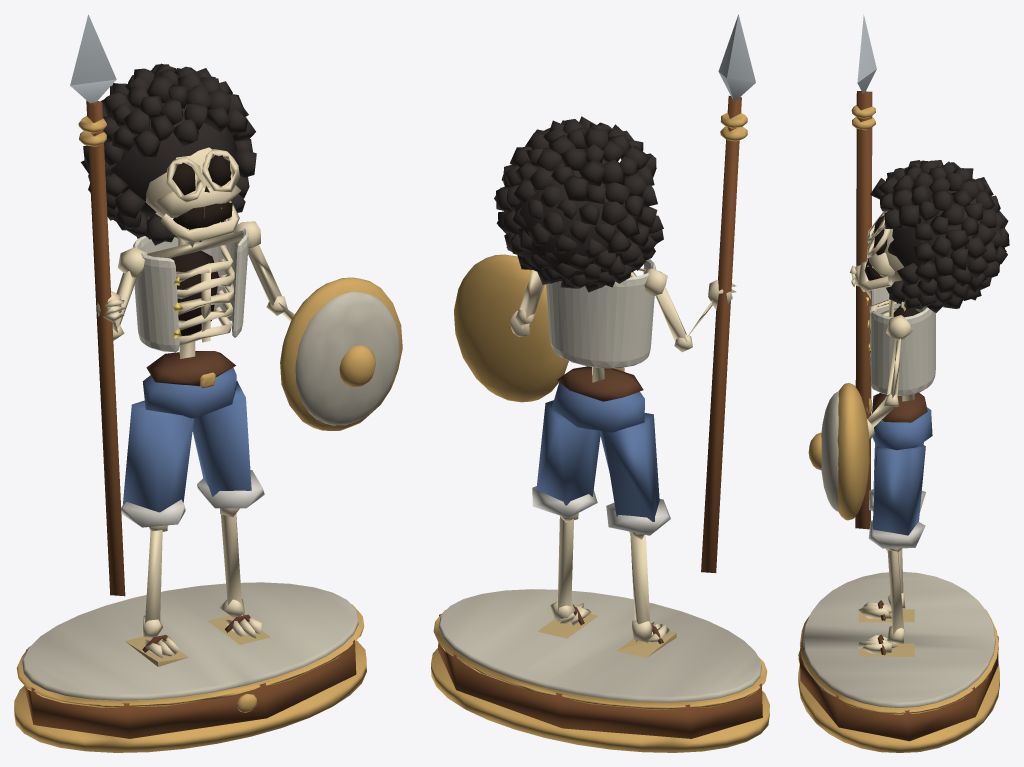
The model's file is pirate_knight_l1.glb.
The picture shows the model from 3 angles, left to right: view 1: azimuth 30°, elevation 25°; view 2: azimuth 150°, elevation 25°; view 3: azimuth 270°, elevation 25°; orthographic projection. The views are drawn at different scales.
Visible parts, largest first — view 1: FixedDetails, WoodBody, BrassTrim; view 2: FixedDetails, WoodBody, BrassTrim; view 3: FixedDetails, WoodBody, BrassTrim.
Part boxes in pixels (left/top/right/bottom): FixedDetails: left=24, top=14, right=356, bottom=738; WoodBody: left=22, top=223, right=399, bottom=700; BrassTrim: left=14, top=116, right=402, bottom=752; FixedDetails: left=438, top=14, right=762, bottom=738; WoodBody: left=439, top=259, right=761, bottom=702; BrassTrim: left=431, top=112, right=769, bottom=752; FixedDetails: left=800, top=14, right=1009, bottom=741; WoodBody: left=803, top=287, right=995, bottom=707; BrassTrim: left=798, top=105, right=999, bottom=752.
Size of the model in its own units: 0.3391 by 0.6758 by 0.2088.
